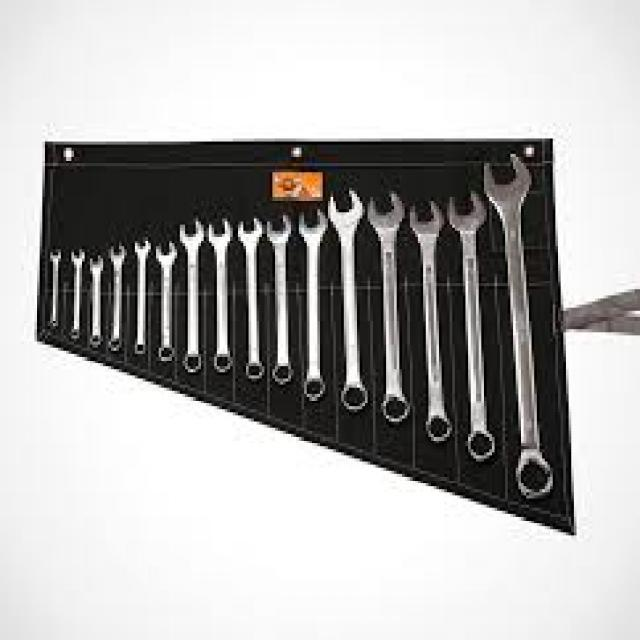wrench: (483, 149, 558, 507), (446, 186, 498, 467), (407, 190, 455, 448), (364, 183, 412, 431), (326, 184, 370, 416), (295, 202, 331, 410), (266, 207, 298, 389), (235, 212, 267, 386), (204, 212, 237, 378), (178, 214, 205, 376), (154, 234, 180, 366), (105, 240, 129, 358), (132, 231, 154, 359), (86, 250, 106, 350), (68, 246, 88, 345), (46, 242, 64, 332)
